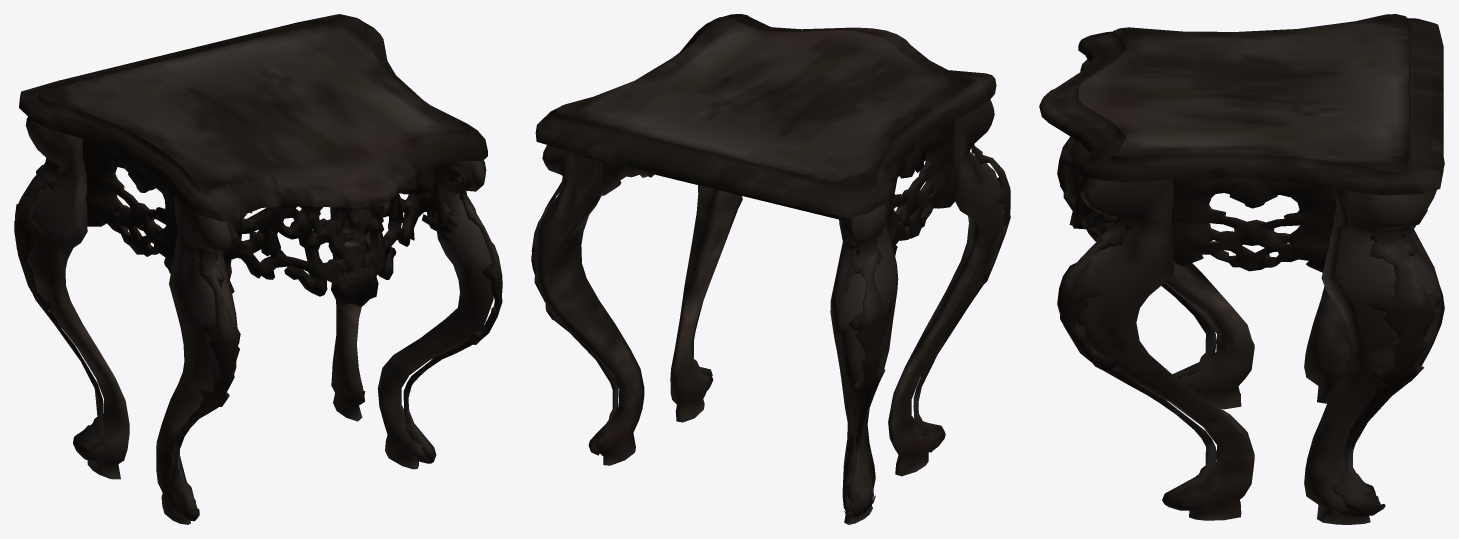
The model's file is ph-classicconsole-01.glb.
The picture shows the model from 3 angles, left to right: view 1: azimuth 30°, elevation 25°; view 2: azimuth 150°, elevation 25°; view 3: azimuth 270°, elevation 25°; orthographic projection. The views are drawn at different scales.
Visible parts, largest first — view 1: ClassicConsole_01; view 2: ClassicConsole_01; view 3: ClassicConsole_01.
Part boxes in pixels (x1,y1,x2,y2): ClassicConsole_01: [14, 14, 502, 524]; ClassicConsole_01: [531, 14, 1010, 524]; ClassicConsole_01: [1039, 14, 1444, 524].
Bounding box in the file's own units: 0.9989 × 1 × 1.
Materials: 1 (1 with a texture image).
